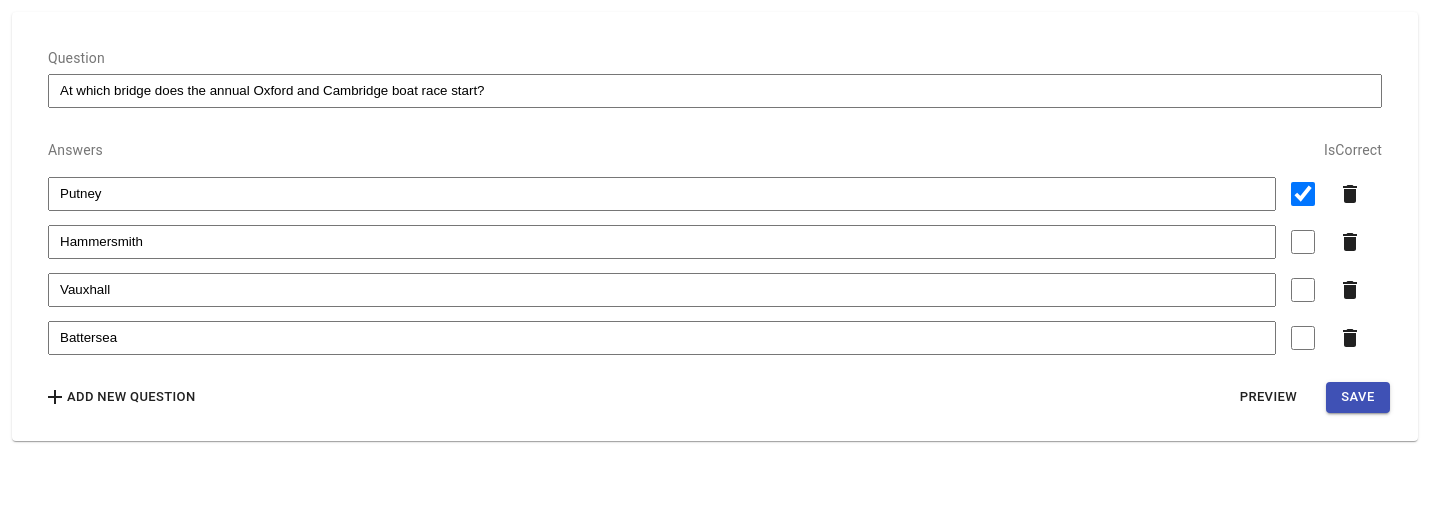
Test: Question Editor › If question title is empty, you should see the relevant error message.
expect the text "Question" is shown: met, box [48,50,105,66]
Note: set empty string in the question input box
Clear the field with test id "question-input" at (715,91), box [48,74,1382,108]
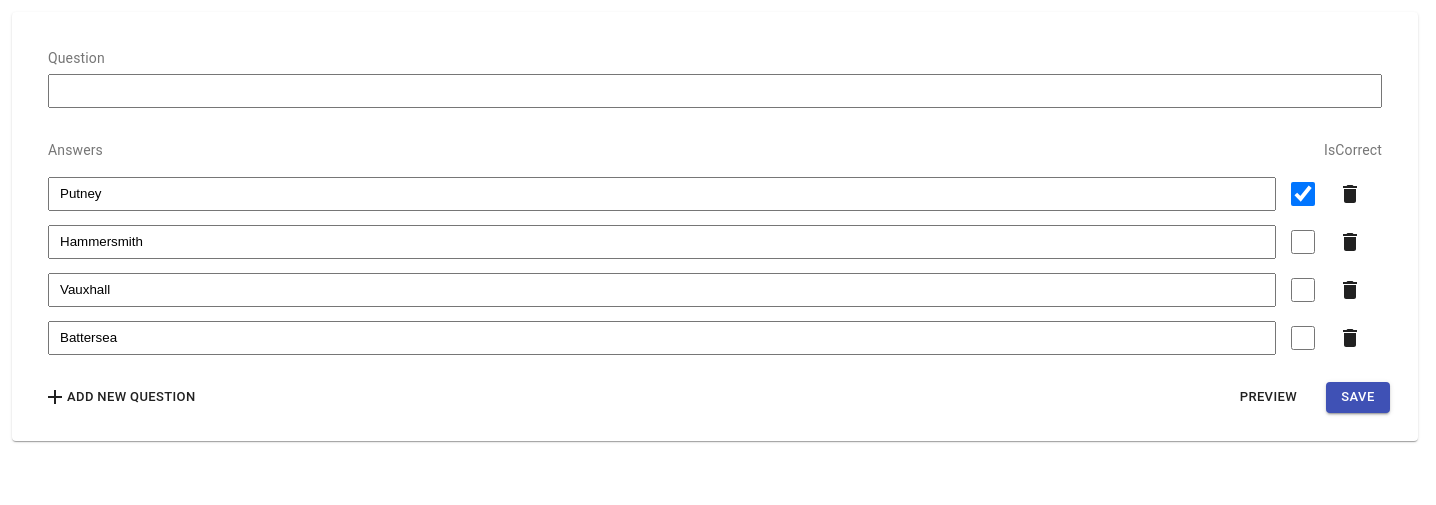
Note: click save button which has "submit-question" test id
Click the button with test id "submit-question" at (1358,397), box [1326,382,1390,413]
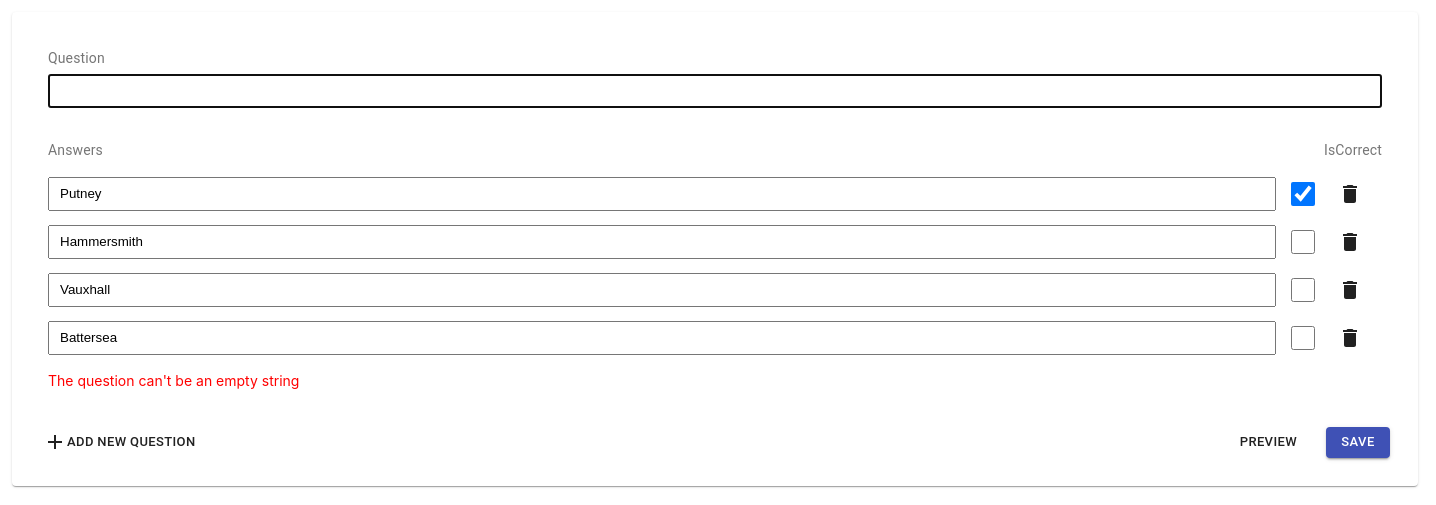
expect the text "The question can't be an empty string" is shown: met, box [48,372,299,389]
